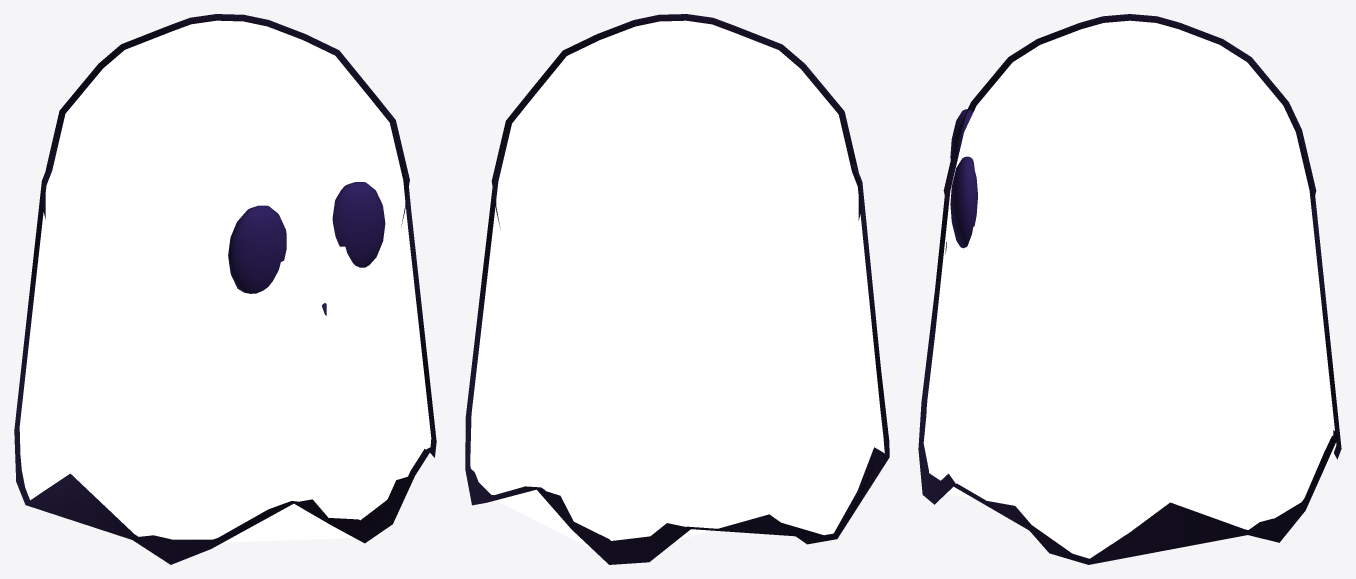
The model's file is ghost.glb.
3 views of the same model, side by side, from view 1: azimuth 30°, elevation 25°; view 2: azimuth 150°, elevation 25°; view 3: azimuth 270°, elevation 25° (orthographic).
Parts seen in each view (by area): view 1: ghost.001; view 2: ghost.001; view 3: ghost.001.
Part boxes in pixels (<box>): ghost.001: <box>14,14,436,564</box>; ghost.001: <box>465,14,889,564</box>; ghost.001: <box>918,14,1341,564</box>.
Size of the model in its own units: 0.754 by 0.8801 by 0.754.
